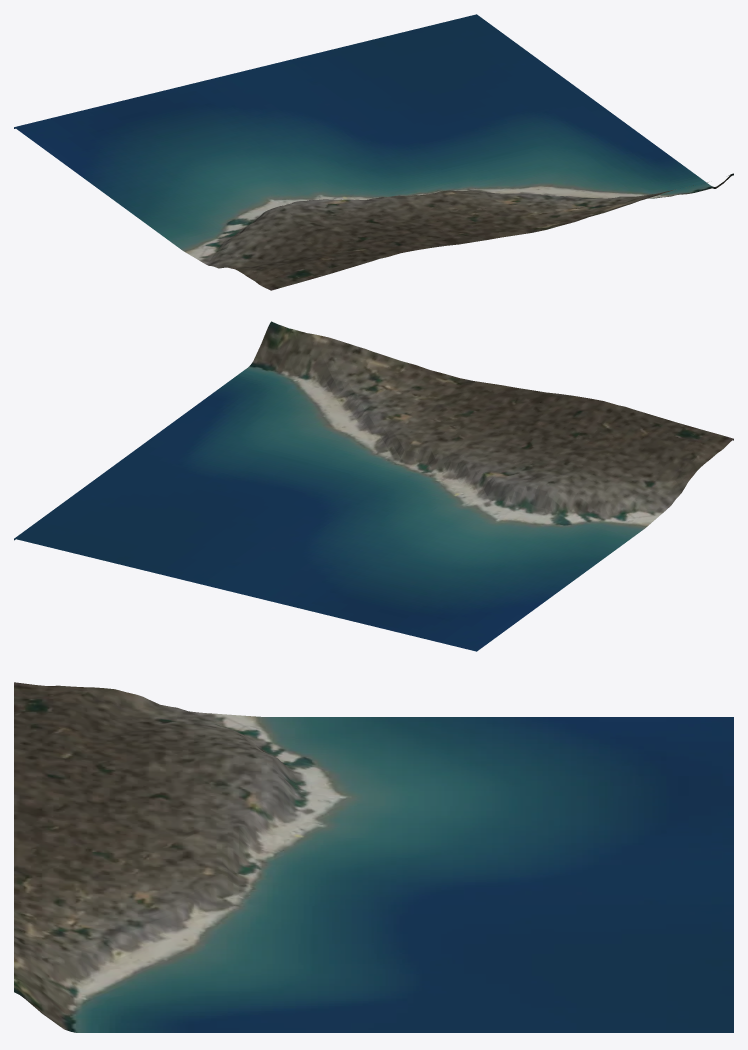
3 renders of one model, top to bottom at view 1: azimuth 30°, elevation 25°; view 2: azimuth 150°, elevation 25°; view 3: azimuth 270°, elevation 25°, orthographic. The views are drawn at different scales.
Bounding box in the file's own units: 250 × 16.81 × 241.
Materials: 1 (1 with a texture image).
